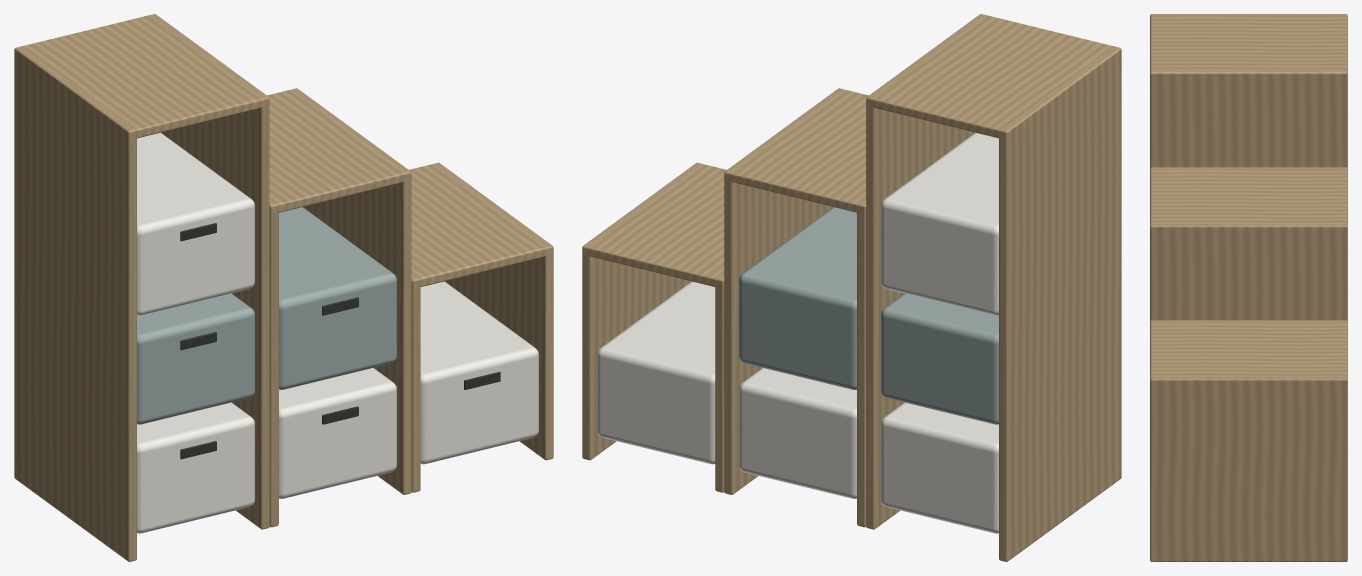
File: trofast.glb
3 views of the same model, side by side, from view 1: azimuth 30°, elevation 25°; view 2: azimuth 150°, elevation 25°; view 3: azimuth 270°, elevation 25° (orthographic). The views are drawn at different scales.
Parts seen in each view (by area): view 1: TROFAST Stepped storage with boxes; view 2: TROFAST Stepped storage with boxes; view 3: TROFAST Stepped storage with boxes.
Part boxes in pixels (box(x1,y1,x2,y2)): TROFAST Stepped storage with boxes: box(14, 14, 553, 561); TROFAST Stepped storage with boxes: box(582, 14, 1121, 561); TROFAST Stepped storage with boxes: box(1150, 14, 1347, 561).
Size of the model in its own units: 0.94 by 0.91 by 0.44.
Materials: 4 (4 with a texture image).
